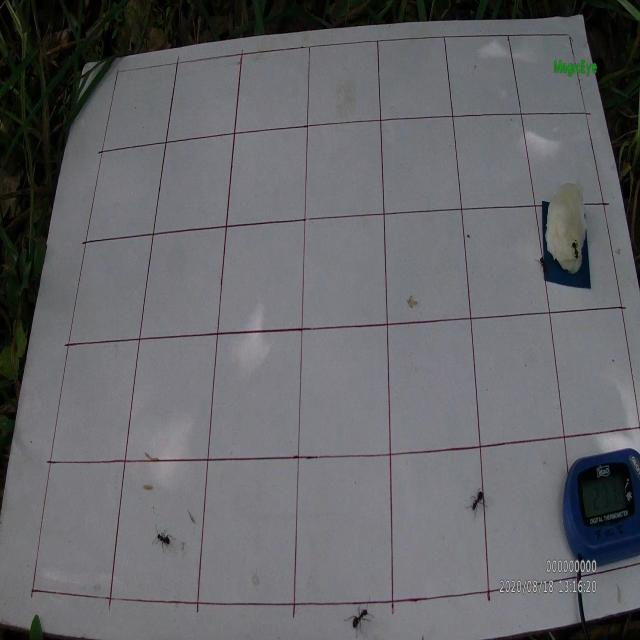Ant: (343, 596, 376, 638), (465, 486, 488, 522), (152, 522, 176, 554), (567, 235, 580, 261), (534, 255, 548, 278)
